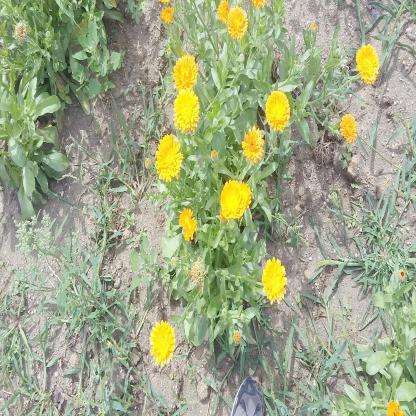marigold: (220, 181, 251, 222), (154, 136, 182, 177), (173, 89, 199, 131), (150, 321, 174, 363), (262, 257, 286, 299), (355, 45, 379, 85), (266, 87, 288, 128), (172, 54, 198, 88), (243, 127, 263, 158), (227, 7, 248, 36), (179, 209, 197, 240), (339, 115, 359, 142), (218, 1, 228, 21)
